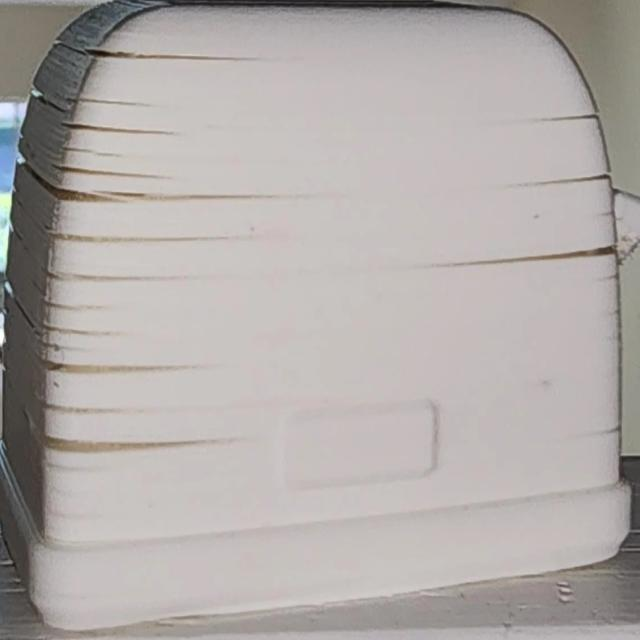Warping: (46, 429, 156, 459), (48, 180, 122, 214), (42, 353, 122, 379), (93, 42, 161, 66), (46, 226, 118, 248), (60, 116, 130, 136), (567, 235, 619, 261), (56, 159, 112, 182), (564, 167, 610, 188), (14, 151, 47, 179), (27, 83, 55, 110), (564, 106, 602, 124)
